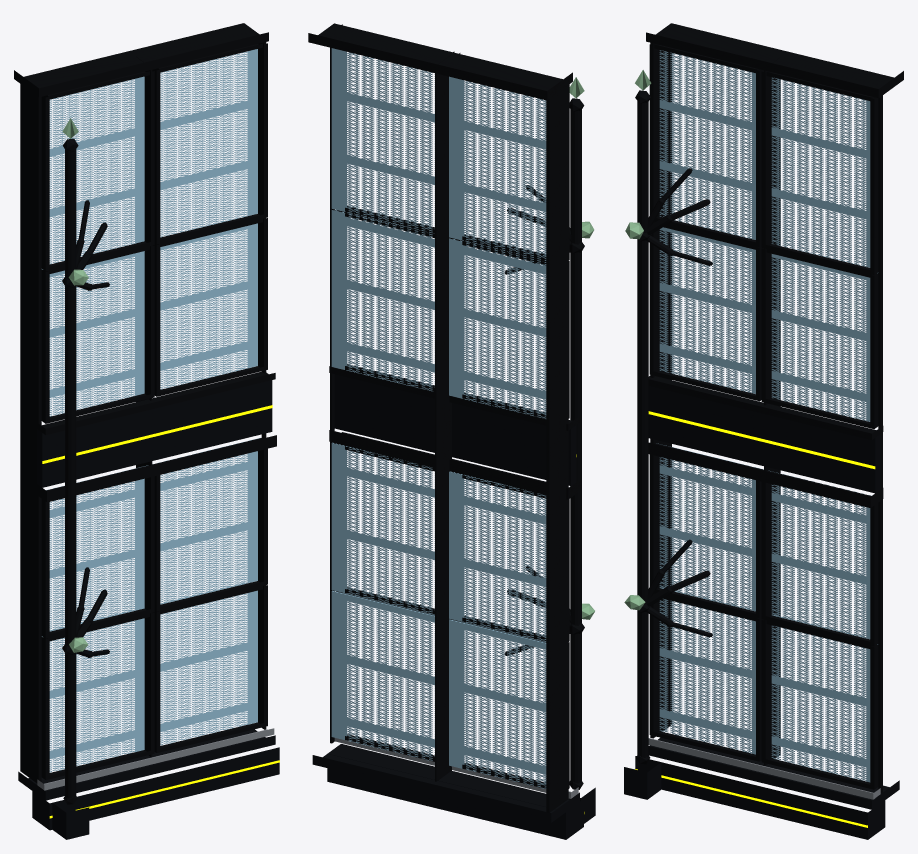
Rendered from tt_facade_bay_pool.glb.
3 renders of one model, left to right at view 1: azimuth 30°, elevation 25°; view 2: azimuth 150°, elevation 25°; view 3: azimuth 330°, elevation 25°, orthographic. The views are drawn at different scales.
Visible parts, largest first — view 1: Frame, Pane_Scissor_31, Pane_Scissor_21, Pane_Scissor_30, Pane_Scissor_01, Pane_Scissor_11, Spandrel_Band, Pane_Scissor_20, Pane_Scissor_00, Branch_Trunk, Pane_Scissor_10, Plinth_Ledge (+5 smaller); view 2: Frame, Pane_Scissor_31, Pane_Scissor_21, Pane_Scissor_30, Pane_Scissor_20, Pane_Scissor_01, Pane_Scissor_11, Pane_Scissor_00, Pane_Scissor_10, Spandrel_Band, Plinth_Ledge, Branch_Trunk (+2 smaller); view 3: Frame, Pane_Scissor_31, Pane_Scissor_30, Pane_Scissor_21, Spandrel_Band, Pane_Scissor_20, Pane_Scissor_01, Pane_Scissor_11, Branch_Trunk, Pane_Scissor_00, Pane_Scissor_10, Plinth_Ledge (+5 smaller).
Boxes of the visible parts, x1,y1,x2,y2 form: Frame: (14,23,276,783); Pane_Scissor_31: (160,49,257,237); Pane_Scissor_21: (160,223,257,389); Pane_Scissor_30: (49,76,144,264); Pane_Scissor_01: (160,590,257,745); Pane_Scissor_11: (157,438,259,604); Spandrel_Band: (37,380,272,487); Pane_Scissor_20: (42,251,144,416); Pane_Scissor_00: (42,618,144,772); Branch_Trunk: (62,138,109,804); Pane_Scissor_10: (46,465,147,631); Plinth_Ledge: (18,724,279,830); Frame: (308,23,581,812); Pane_Scissor_31: (331,48,434,233); Pane_Scissor_21: (331,210,434,391); Pane_Scissor_30: (449,76,546,260); Pane_Scissor_20: (449,238,546,418); Pane_Scissor_01: (331,590,434,760); Pane_Scissor_11: (331,442,434,615); Pane_Scissor_00: (449,619,546,788); Pane_Scissor_10: (449,471,546,642); Spandrel_Band: (334,374,576,485); Plinth_Ledge: (312,744,583,839); Branch_Trunk: (504,98,584,789); Frame: (646,23,903,793); Pane_Scissor_31: (771,77,870,267); Pane_Scissor_30: (659,50,755,239); Pane_Scissor_21: (771,254,878,421); Spandrel_Band: (648,386,880,493); Pane_Scissor_20: (659,227,755,393); Pane_Scissor_01: (771,625,877,782); Pane_Scissor_11: (768,470,871,639); Branch_Trunk: (635,90,712,764); Pane_Scissor_00: (659,598,755,754); Pane_Scissor_10: (656,443,763,611); Plinth_Ledge: (635,733,899,839).
Size of what is drawn, in the model's own units: 4 by 12.2 by 1.66.
7 materials, 3 textured.
